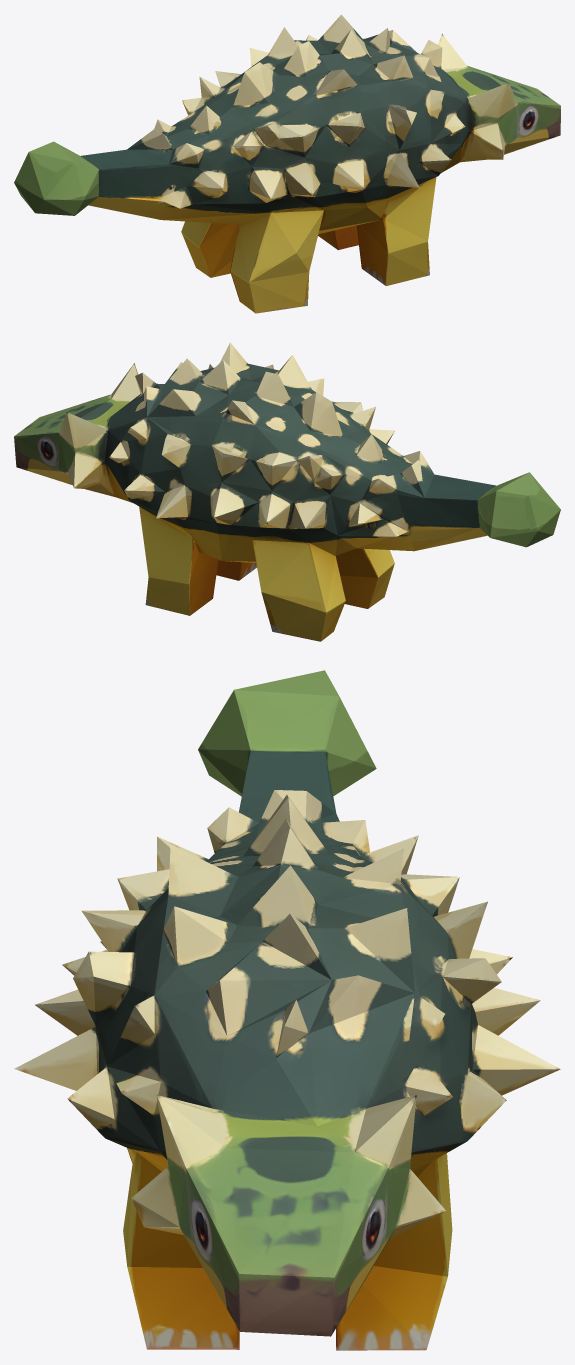
3 views of the same model, one above another, from view 1: azimuth 30°, elevation 25°; view 2: azimuth 150°, elevation 25°; view 3: azimuth 270°, elevation 25° (orthographic). The views are drawn at different scales.
Visible parts, largest first — view 1: Figure; view 2: Figure; view 3: Figure.
Boxes of the visible parts, left/top/right/bottom form: Figure: left=14, top=14, right=560, bottom=313; Figure: left=14, top=342, right=560, bottom=641; Figure: left=14, top=670, right=560, bottom=1350.
Size of the model in its own units: 0.8002 by 0.3353 by 0.3735.
1 material, 1 textured.
